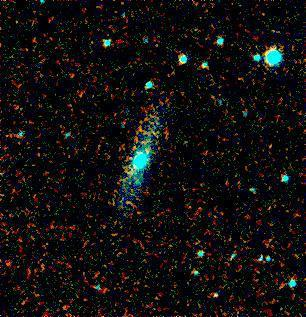star: (257, 43, 287, 73)
